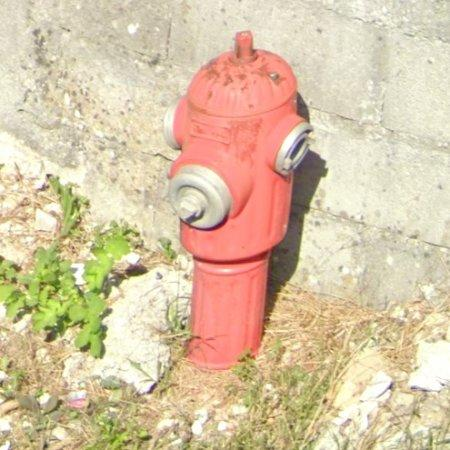a fire hydrant: (170, 165, 232, 230)
